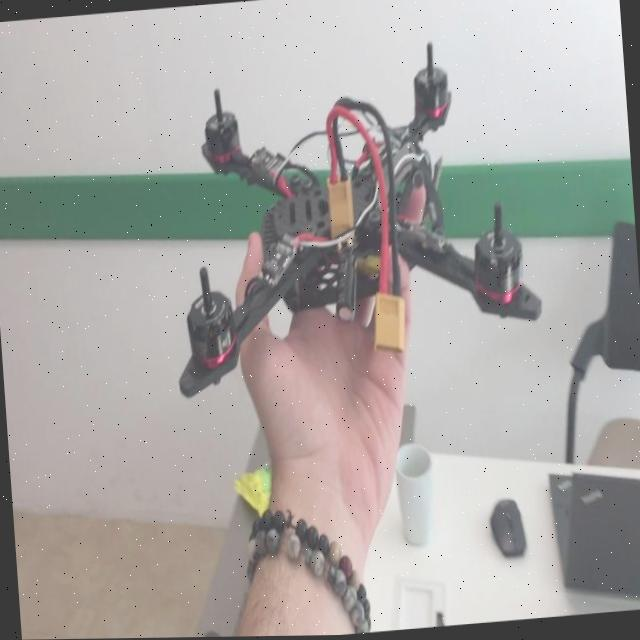drone: (175, 31, 544, 412)
